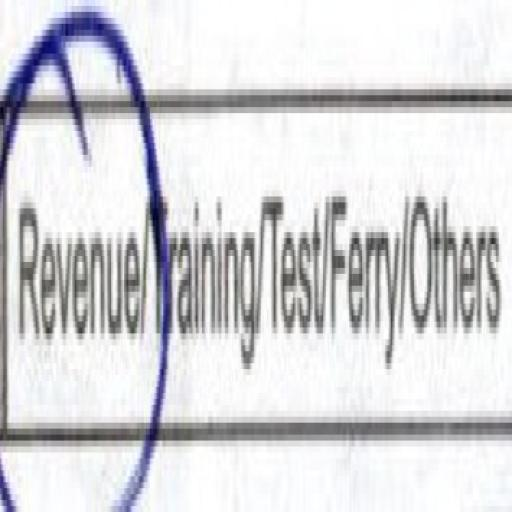check: (0, 2, 150, 512)
